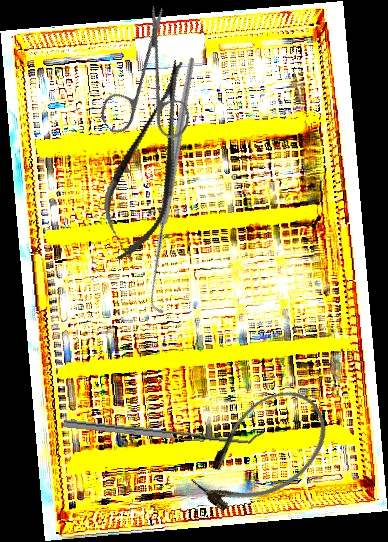Cannula: (177, 373, 346, 532)
Hook Surgical: (49, 54, 302, 316)
Iris Scissors: (66, 2, 231, 168)
Micro Scissor: (88, 52, 212, 269)
Spatula Surgical: (63, 412, 262, 448)
